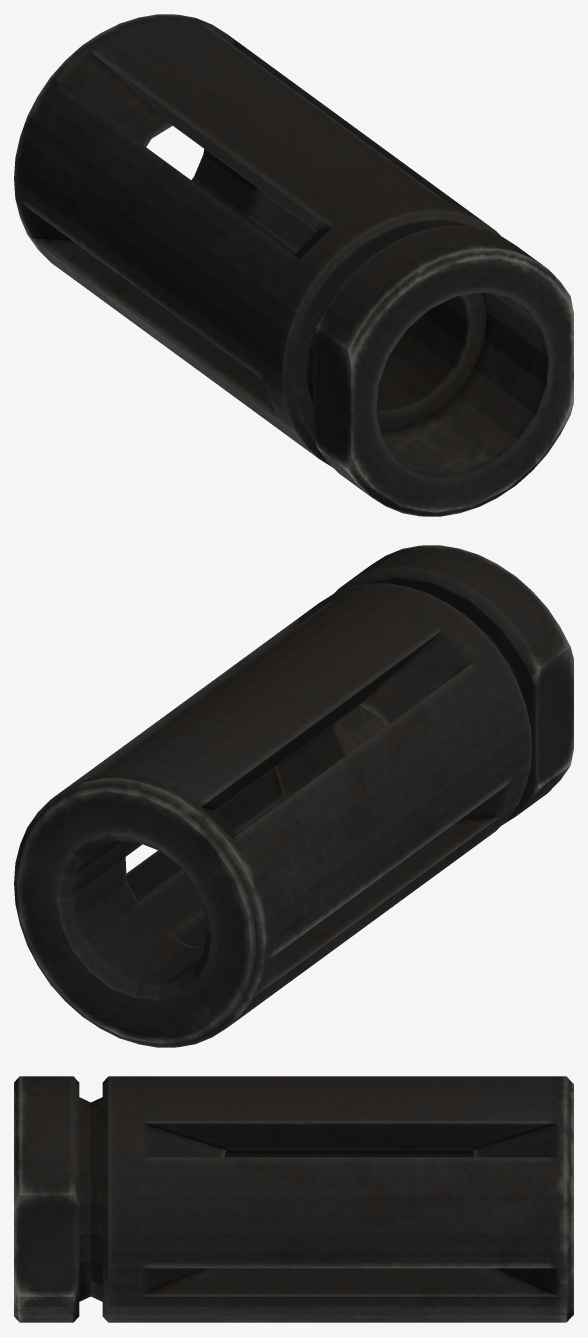
3 views of the same model, one above another, from view 1: azimuth 30°, elevation 25°; view 2: azimuth 150°, elevation 25°; view 3: azimuth 270°, elevation 25° (orthographic). The views are drawn at different scales.
Parts seen in each view (by area): view 1: TW_5fb65424956329274326f316_PZ_Import; view 2: TW_5fb65424956329274326f316_PZ_Import; view 3: TW_5fb65424956329274326f316_PZ_Import.
Boxes of the visible parts, bbox=[...] form: TW_5fb65424956329274326f316_PZ_Import: bbox=[14, 14, 573, 516]; TW_5fb65424956329274326f316_PZ_Import: bbox=[14, 545, 573, 1047]; TW_5fb65424956329274326f316_PZ_Import: bbox=[14, 1076, 573, 1322].
Bounding box in the file's own units: 0.0127 × 0.0289 × 0.0127.
Materials: 1 (1 with a texture image).
